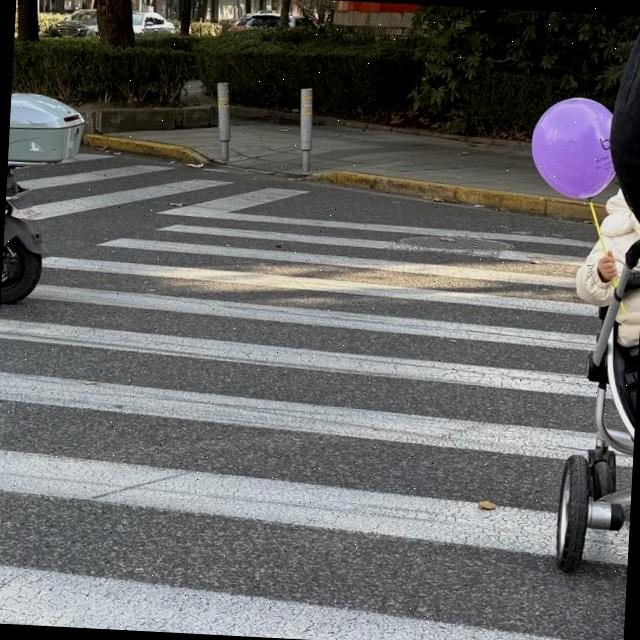curb: (287, 173, 604, 223), (315, 116, 529, 147), (83, 134, 224, 164), (82, 105, 215, 132), (231, 105, 298, 125)
